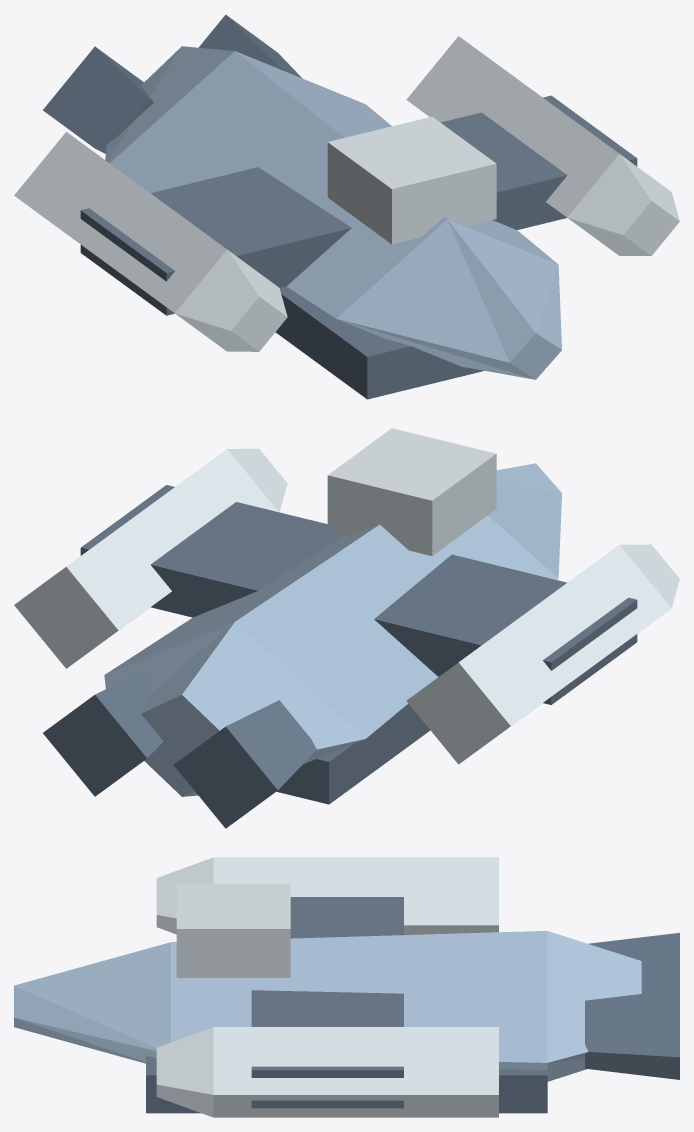
3 renders of one model, top to bottom at view 1: azimuth 30°, elevation 25°; view 2: azimuth 150°, elevation 25°; view 3: azimuth 270°, elevation 25°, orthographic. The views are drawn at different scales.
Bounding box in the file's own units: 5.56 × 2.12 × 7.28.
